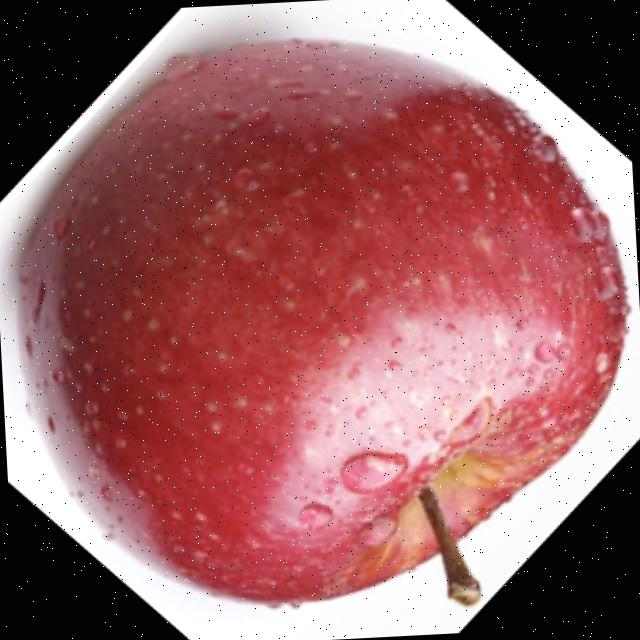Ripe: (0, 7, 640, 632)
